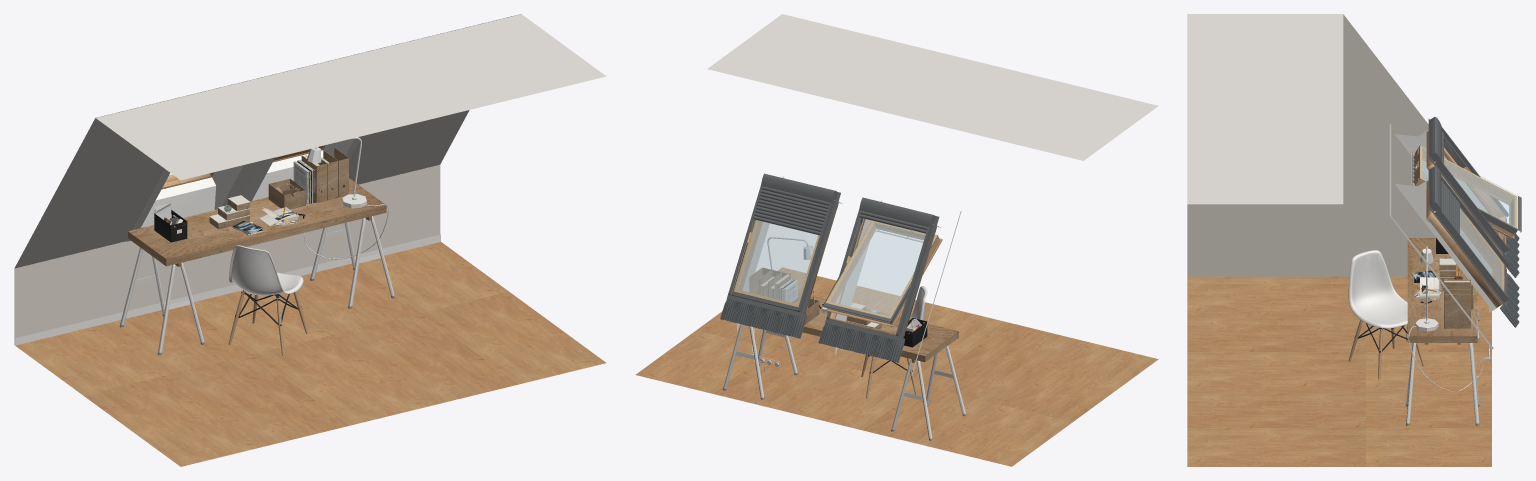
The model's file is goc-gac-mai.glb.
3 renders of one model, left to right at view 1: azimuth 30°, elevation 25°; view 2: azimuth 150°, elevation 25°; view 3: azimuth 270°, elevation 25°, orthographic. The views are drawn at different scales.
Parts seen in each view (by area): view 1: Room Floor, Room Ceiling, Room Knee Wall, Room Slope, AVE Desk, AVE VELUX Window Panel, AVE DSW Eames Chair, Room Skirting, AVE Wooden Folder, AVE Wooden Toys, AVE Case For Threads, AVE IKEA Tistag Lamp (+2 smaller); view 2: Room Floor, Room Ceiling, AVE VELUX Window Main 1, AVE VELUX Window Main 2, AVE VELUX Window External 1, AVE VELUX Window External 2, AVE Desk, AVE VELUX Window Rollet 2, AVE VELUX Window Panel, AVE Wooden Folder, AVE DSW Eames Chair, AVE VELUX Window Rollet 1; view 3: Room Floor, Room Ceiling, Room Left Wall, AVE Desk, AVE DSW Eames Chair, AVE VELUX Window External 2, AVE VELUX Window External 1, AVE VELUX Window Main 1, AVE VELUX Window Panel, AVE VELUX Window Main 2, AVE Wooden Folder, AVE IKEA Tistag Lamp (+3 smaller).
Boxes of the visible parts, bbox=[...] form: Room Floor: bbox=[15, 242, 605, 466]; Room Ceiling: bbox=[96, 14, 606, 180]; Room Knee Wall: bbox=[14, 165, 440, 344]; Room Slope: bbox=[14, 14, 520, 268]; AVE Desk: bbox=[119, 178, 394, 355]; AVE VELUX Window Panel: bbox=[127, 136, 361, 241]; AVE DSW Eames Chair: bbox=[228, 245, 307, 355]; Room Skirting: bbox=[15, 234, 440, 345]; AVE Wooden Folder: bbox=[301, 147, 348, 203]; AVE Wooden Toys: bbox=[268, 178, 305, 209]; AVE Case For Threads: bbox=[209, 195, 249, 229]; AVE IKEA Tistag Lamp: bbox=[304, 137, 388, 259]; Room Floor: bbox=[635, 267, 1158, 466]; Room Ceiling: bbox=[707, 14, 1158, 160]; AVE VELUX Window Main 1: bbox=[823, 220, 942, 327]; AVE VELUX Window Main 2: bbox=[731, 220, 819, 311]; AVE VELUX Window External 1: bbox=[818, 197, 939, 362]; AVE VELUX Window External 2: bbox=[720, 173, 840, 338]; AVE Desk: bbox=[723, 292, 966, 440]; AVE VELUX Window Rollet 2: bbox=[753, 186, 829, 235]; AVE VELUX Window Panel: bbox=[737, 176, 961, 375]; AVE Wooden Folder: bbox=[749, 267, 790, 299]; AVE DSW Eames Chair: bbox=[861, 286, 927, 399]; AVE VELUX Window Rollet 1: bbox=[859, 210, 927, 233]; Room Floor: bbox=[1187, 276, 1491, 466]; Room Ceiling: bbox=[1187, 14, 1343, 204]; Room Left Wall: bbox=[1187, 14, 1435, 276]; AVE Desk: bbox=[1406, 238, 1479, 425]; AVE DSW Eames Chair: bbox=[1348, 250, 1424, 379]; AVE VELUX Window External 2: bbox=[1426, 166, 1519, 327]; AVE VELUX Window External 1: bbox=[1426, 117, 1519, 277]; AVE VELUX Window Main 1: bbox=[1411, 145, 1521, 239]; AVE VELUX Window Panel: bbox=[1389, 124, 1502, 348]; AVE VELUX Window Main 2: bbox=[1426, 189, 1506, 294]; AVE Wooden Folder: bbox=[1444, 279, 1470, 328]; AVE IKEA Tistag Lamp: bbox=[1408, 246, 1491, 391].
Size of the model in its own units: 4.2 by 2.7 by 3.12.
Materials: 67 (23 with a texture image).
